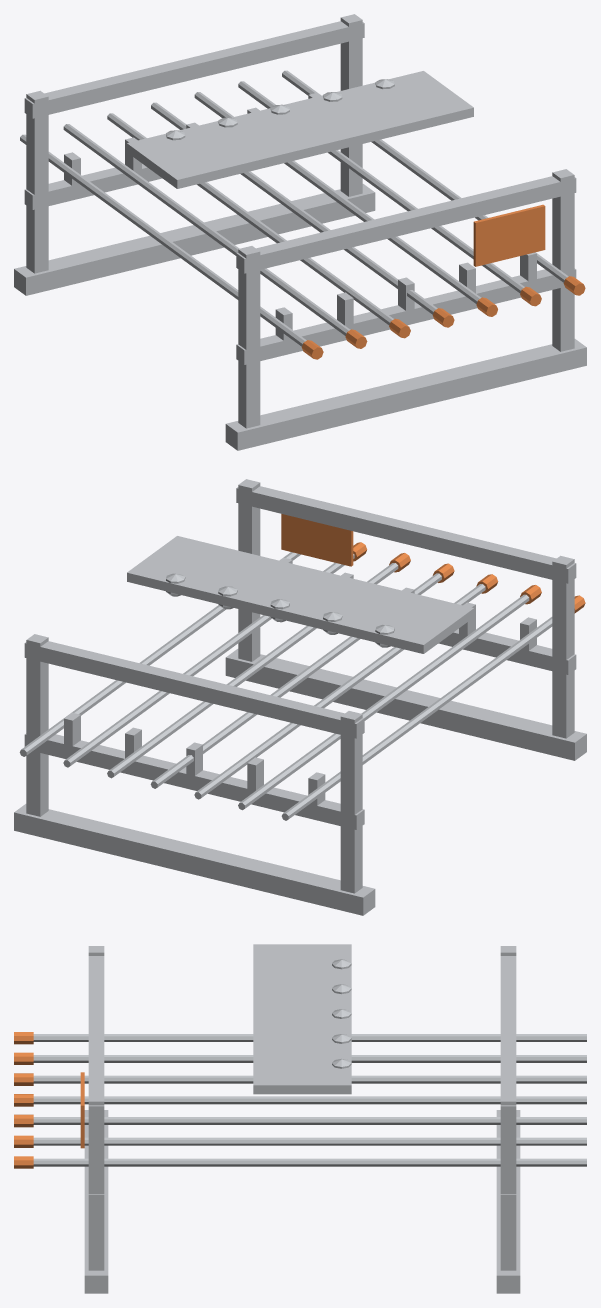
The model's file is underground-mine-and-shaft-works-drill-steel-rack-632b17ab.glb.
3 renders of one model, top to bottom at view 1: azimuth 30°, elevation 25°; view 2: azimuth 150°, elevation 25°; view 3: azimuth 270°, elevation 25°, orthographic. The views are drawn at different scales.
Parts seen in each view (by area): view 1: drill-steel-rack; view 2: drill-steel-rack; view 3: drill-steel-rack.
Boxes of the visible parts, <box> form: drill-steel-rack: <box>14,14,586,450</box>; drill-steel-rack: <box>14,479,586,915</box>; drill-steel-rack: <box>14,944,586,1293</box>.
Size of the model in its own units: 2 by 1.13 by 2.92.
